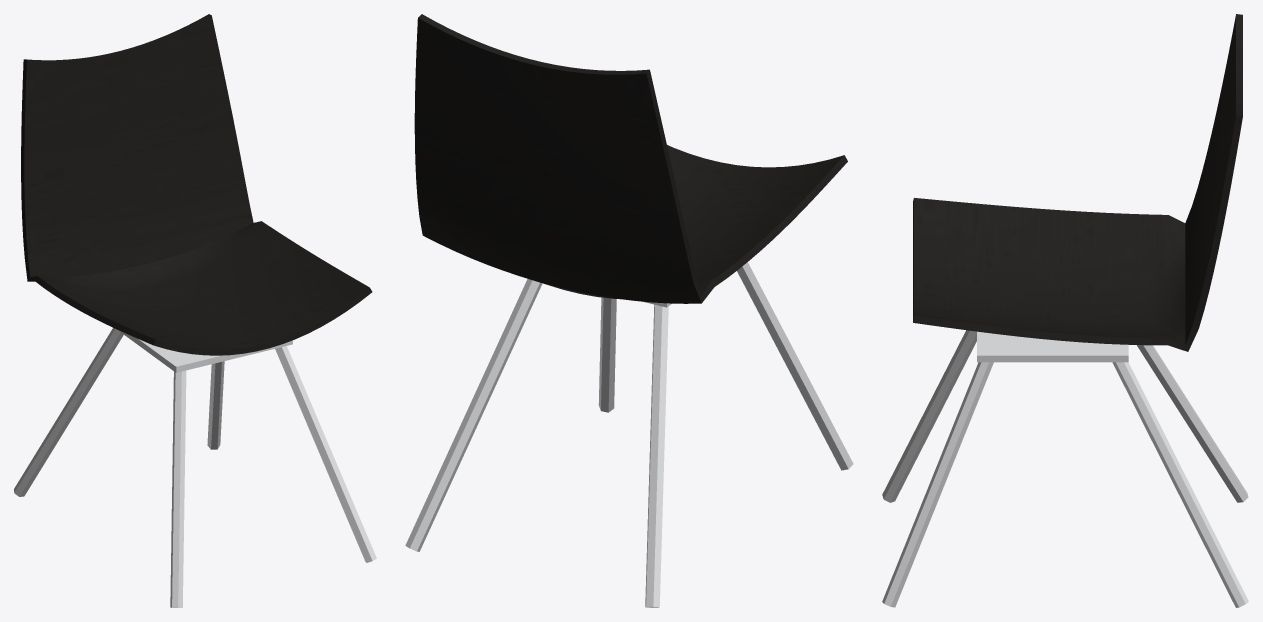
File: shell_black.glb
3 views of the same model, side by side, from view 1: azimuth 30°, elevation 25°; view 2: azimuth 150°, elevation 25°; view 3: azimuth 270°, elevation 25° (orthographic). The views are drawn at different scales.
Parts seen in each view (by area): view 1: shell_black; view 2: shell_black; view 3: shell_black.
Boxes of the visible parts, box(x1,y1,x2,y2) form: shell_black: box(14, 14, 376, 607); shell_black: box(405, 14, 853, 607); shell_black: box(882, 14, 1248, 607).
Size of the model in its own units: 0.4733 by 0.8556 by 0.5808.
2 materials, 1 textured.
